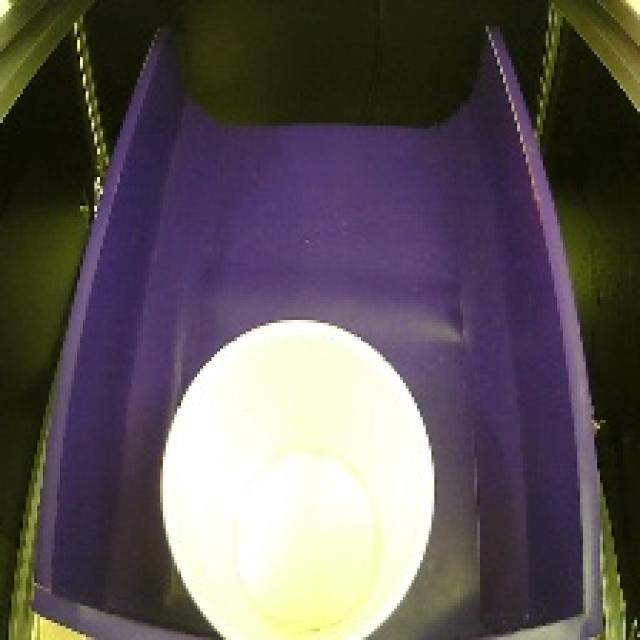cups: (144, 303, 450, 640)
